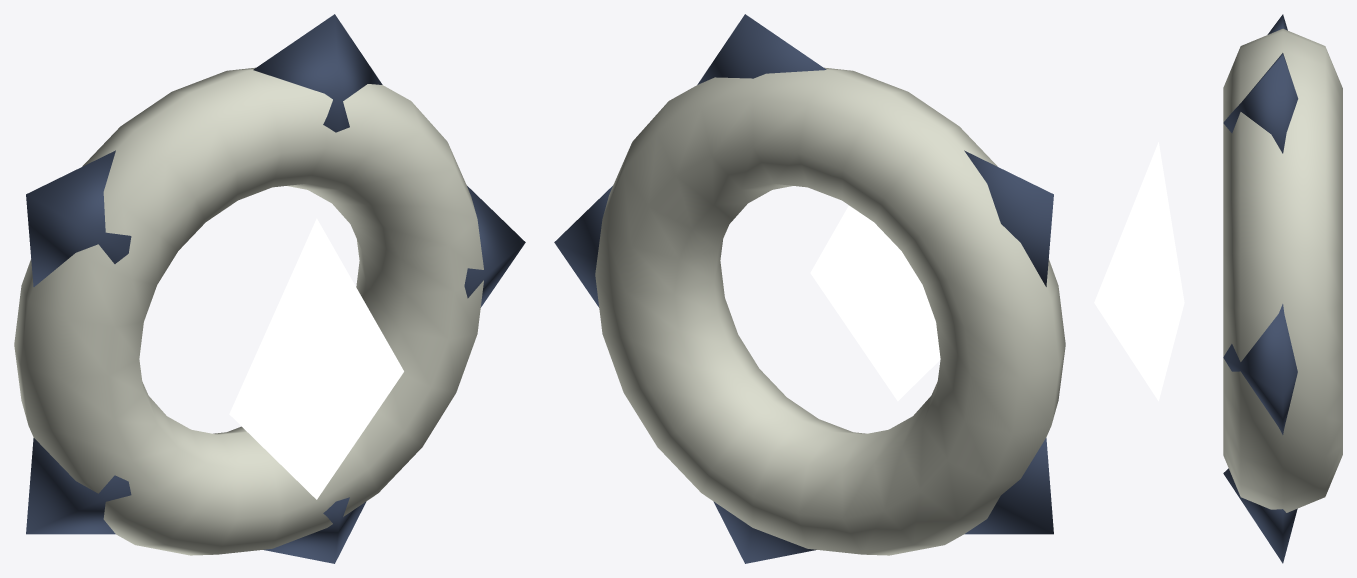
Rendered from boss_pale_requiem_accessory_2.glb.
3 views of the same model, side by side, from view 1: azimuth 30°, elevation 25°; view 2: azimuth 150°, elevation 25°; view 3: azimuth 270°, elevation 25° (orthographic). The views are drawn at different scales.
Parts seen in each view (by area): view 1: Boss_pale_requiem_1, Boss_pale_requiem_2, Boss_pale_requiem_0; view 2: Boss_pale_requiem_1, Boss_pale_requiem_0, Boss_pale_requiem_2; view 3: Boss_pale_requiem_1, Boss_pale_requiem_2, Boss_pale_requiem_0.
Part boxes in pixels (<box>): Boss_pale_requiem_1: <box>14,67,483,555</box>; Boss_pale_requiem_2: <box>229,218,403,499</box>; Boss_pale_requiem_0: <box>26,14,525,563</box>; Boss_pale_requiem_1: <box>595,67,1065,555</box>; Boss_pale_requiem_0: <box>554,14,1053,563</box>; Boss_pale_requiem_2: <box>810,205,940,401</box>; Boss_pale_requiem_1: <box>1223,28,1342,512</box>; Boss_pale_requiem_2: <box>1094,142,1184,401</box>; Boss_pale_requiem_0: <box>1223,14,1298,563</box>.
Bounding box in the file's own units: 0.117 × 0.1217 × 0.054.
